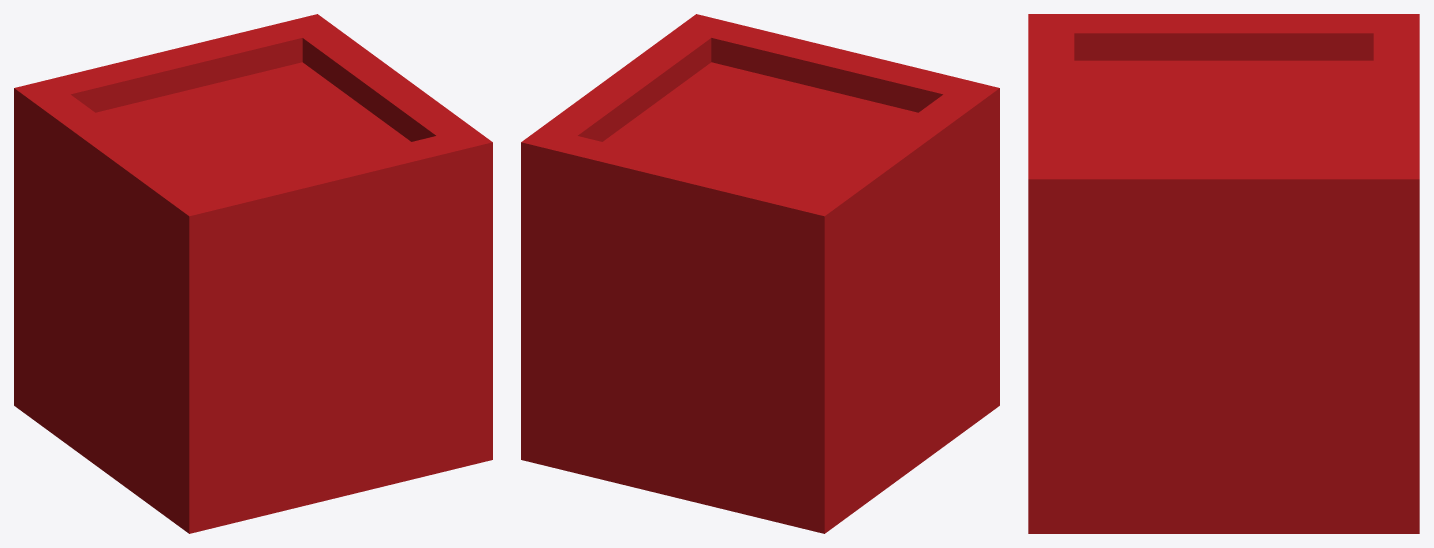
Rendered from Firewall.glb.
3 renders of one model, left to right at view 1: azimuth 30°, elevation 25°; view 2: azimuth 150°, elevation 25°; view 3: azimuth 270°, elevation 25°, orthographic. The views are drawn at different scales.
Parts seen in each view (by area): view 1: Cube; view 2: Cube; view 3: Cube.
Boxes of the visible parts, box(x1,y1,x2,y2) form: Cube: box(14, 14, 492, 533); Cube: box(521, 14, 999, 533); Cube: box(1028, 14, 1419, 533).
Size of the model in its own units: 0.65 by 0.65 by 0.65.
